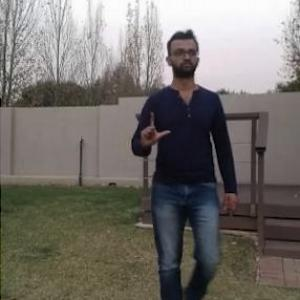land_hand: (134, 107, 174, 153)
